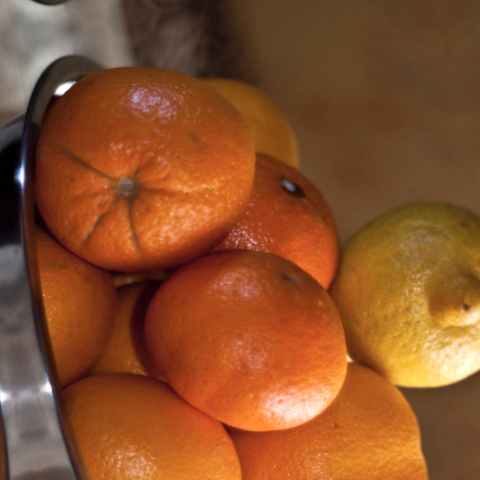orange: (0, 33, 281, 298), (119, 206, 399, 458)
